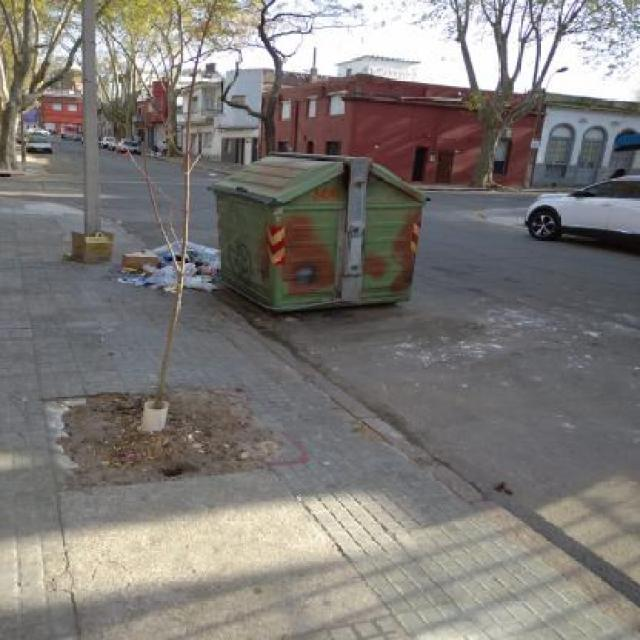garbage: (58, 183, 264, 319)
